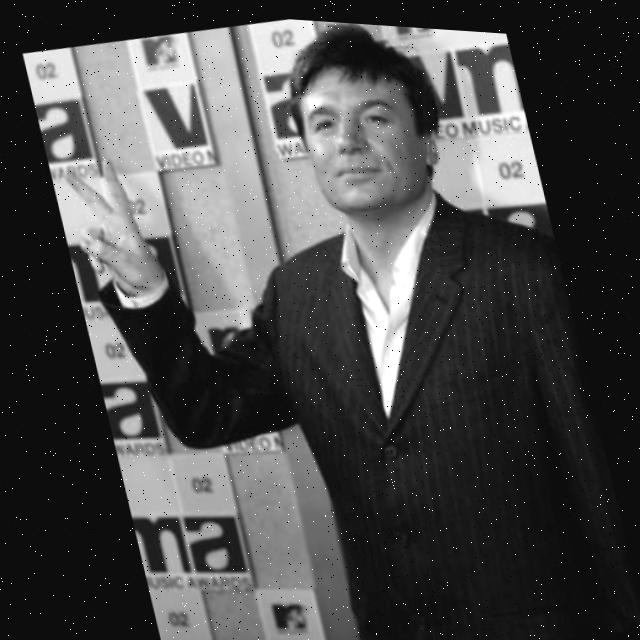face: (274, 27, 456, 219)
